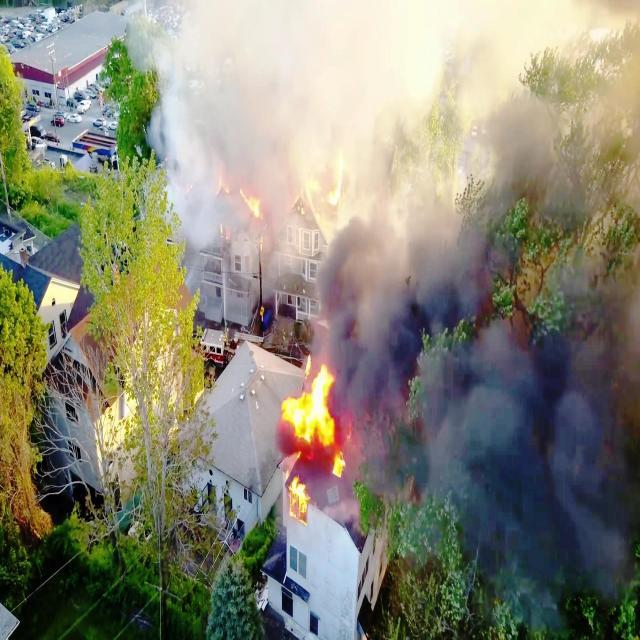Fire: (274, 356, 350, 534)
Smoke: (152, 4, 640, 361), (357, 371, 639, 588)
